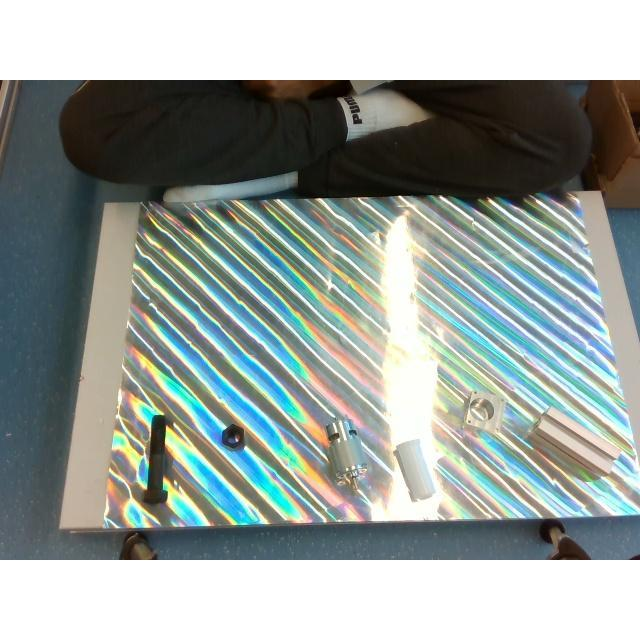M20: (220, 424, 243, 450)
M20_100: (141, 416, 167, 504)
Motor2: (325, 417, 367, 493)
S40_40_G: (524, 406, 622, 476)
Spacer: (392, 439, 436, 501)
